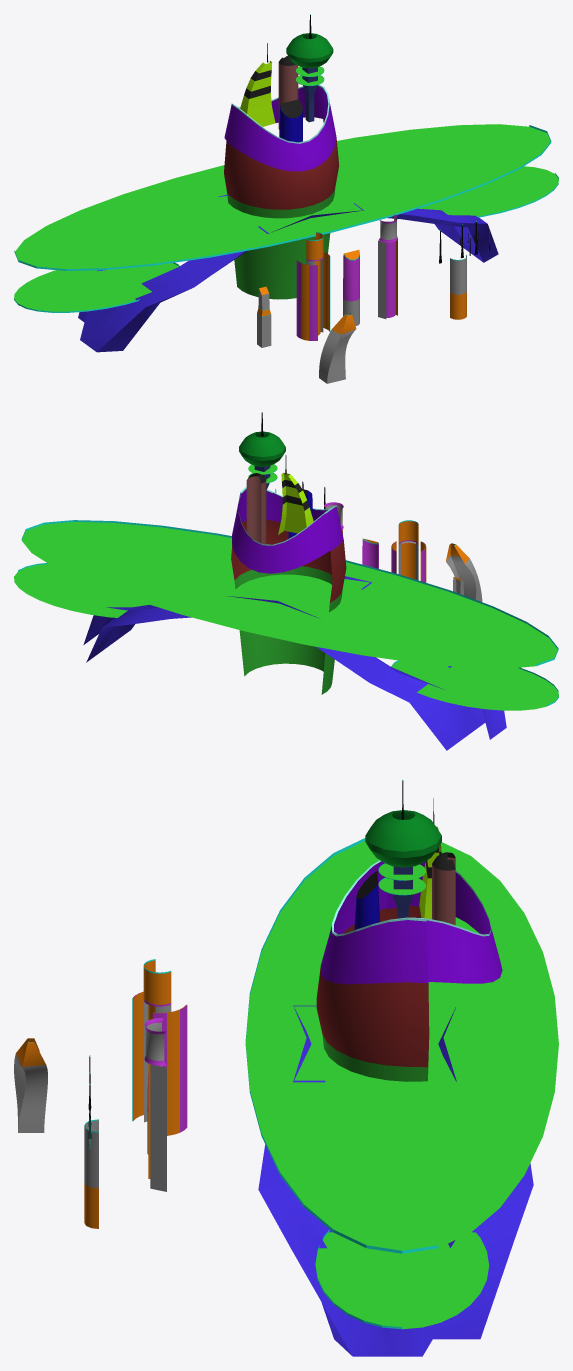
Rendered from Airport and New Building set.FBX.
The picture shows the model from 3 angles, top to bottom: view 1: azimuth 30°, elevation 25°; view 2: azimuth 150°, elevation 25°; view 3: azimuth 270°, elevation 25°; orthographic projection. The views are drawn at different scales.
Parts seen in each view (by area): view 1: Circle001, Sphere001, Tube001, Circle002, Circle003, Cylinder004, Cylinder006, Box005, Box006, OilTank001, Cylinder002, Cylinder001 (+5 smaller); view 2: Circle001, Sphere001, Tube001, Circle002, Circle003, Box006, OilTank002, OilTank001, Cylinder005, Box005, Cylinder002, Cylinder004; view 3: Circle001, Sphere001, Tube001, Circle003, Cylinder004, OilTank001, Cylinder006, Box005, Cylinder005, OilTank002, Cylinder001, OilTank003 (+2 smaller).
Part boxes in pixels (<box>): Circle001: <box>14,124,551,270</box>; Sphere001: <box>224,84,339,299</box>; Tube001: <box>78,194,498,352</box>; Circle002: <box>14,262,179,312</box>; Circle003: <box>418,166,558,217</box>; Cylinder004: <box>296,252,330,340</box>; Cylinder006: <box>378,214,397,318</box>; Box005: <box>319,313,356,383</box>; Box006: <box>240,43,275,126</box>; OilTank001: <box>286,33,333,68</box>; Cylinder002: <box>343,250,359,325</box>; Cylinder001: <box>450,255,466,319</box>; Circle001: <box>21,520,558,668</box>; Sphere001: <box>231,487,346,694</box>; Tube001: <box>83,576,506,750</box>; Circle002: <box>391,660,558,710</box>; Circle003: <box>14,563,148,617</box>; Box006: <box>278,455,313,534</box>; OilTank002: <box>246,473,266,544</box>; OilTank001: <box>239,431,285,466</box>; Cylinder005: <box>398,520,418,580</box>; Box005: <box>446,543,482,601</box>; Cylinder002: <box>362,538,378,568</box>; Cylinder004: <box>391,541,426,582</box>; Circle001: <box>245,838,558,1253</box>; Sphere001: <box>316,860,502,1081</box>; Tube001: <box>258,1005,533,1356</box>; Circle003: <box>315,1229,489,1329</box>; Cylinder004: <box>132,991,187,1135</box>; OilTank001: <box>365,810,441,867</box>; Cylinder006: <box>144,1018,166,1191</box>; Box005: <box>14,1038,47,1132</box>; Cylinder005: <box>143,959,171,1122</box>; OilTank002: <box>432,852,455,925</box>; Cylinder001: <box>84,1119,98,1228</box>; OilTank003: <box>354,871,379,929</box>.
Size of the model in its own units: 1209 by 583 by 654.
